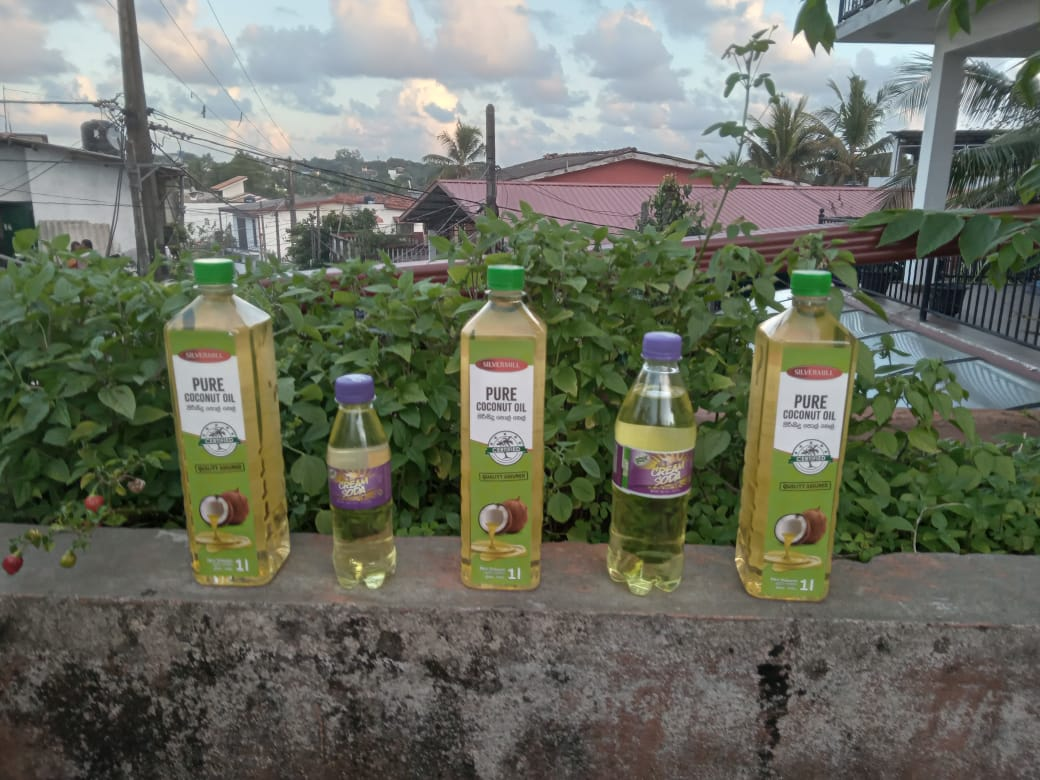S: (604, 333, 698, 593)
Xs: (321, 374, 394, 589)
